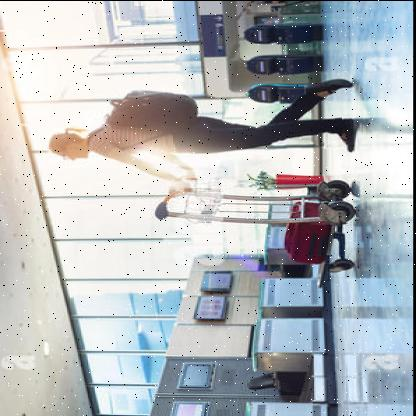airport-trolley: (151, 167, 357, 290)
